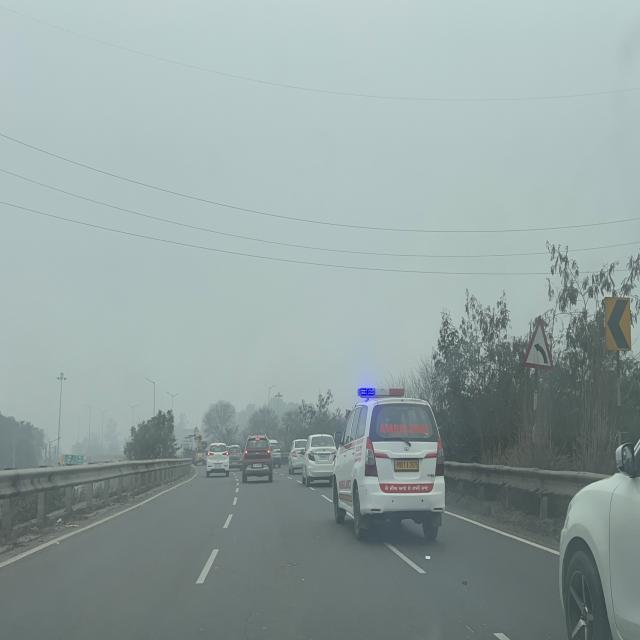LEFT_TURN_AHEAD: (523, 316, 554, 371)
TURN_LEFT: (605, 298, 632, 352), (285, 424, 290, 433)
